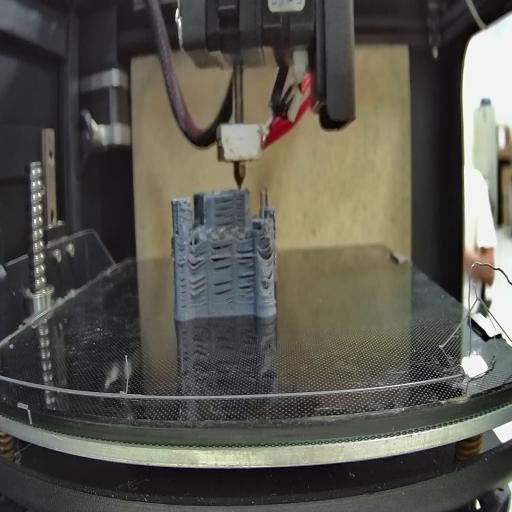cracks: (212, 193, 236, 229), (210, 242, 234, 270), (212, 277, 233, 304), (177, 252, 187, 308), (186, 248, 205, 275), (190, 278, 208, 304), (239, 272, 255, 301), (237, 246, 255, 268), (264, 246, 276, 260), (174, 220, 180, 238), (267, 270, 274, 282)
